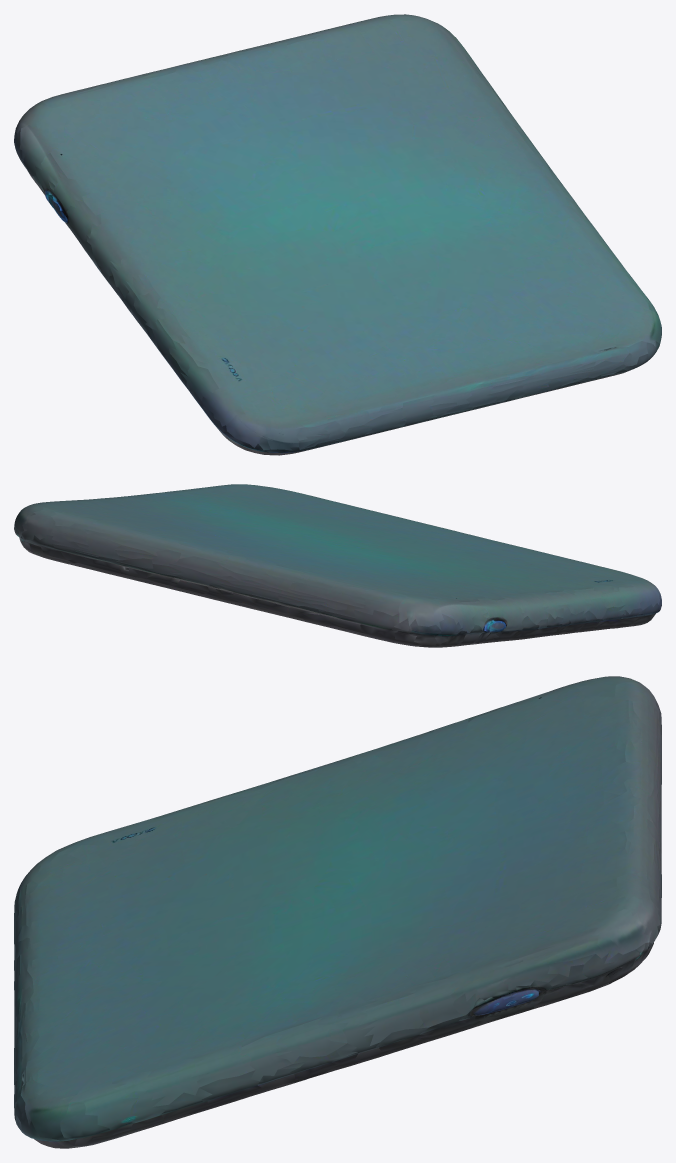
File: Terbio.fbx
3 views of the same model, one above another, from view 1: azimuth 30°, elevation 25°; view 2: azimuth 150°, elevation 25°; view 3: azimuth 270°, elevation 25° (orthographic). The views are drawn at different scales.
Visible parts, largest first — view 1: Mesh_0.027; view 2: Mesh_0.027; view 3: Mesh_0.027.
Boxes of the visible parts, bbox=[...] form: Mesh_0.027: bbox=[14, 14, 661, 455]; Mesh_0.027: bbox=[14, 484, 661, 647]; Mesh_0.027: bbox=[14, 676, 661, 1148].
Bounding box in the file's own units: 5369 × 2159 × 5320.
